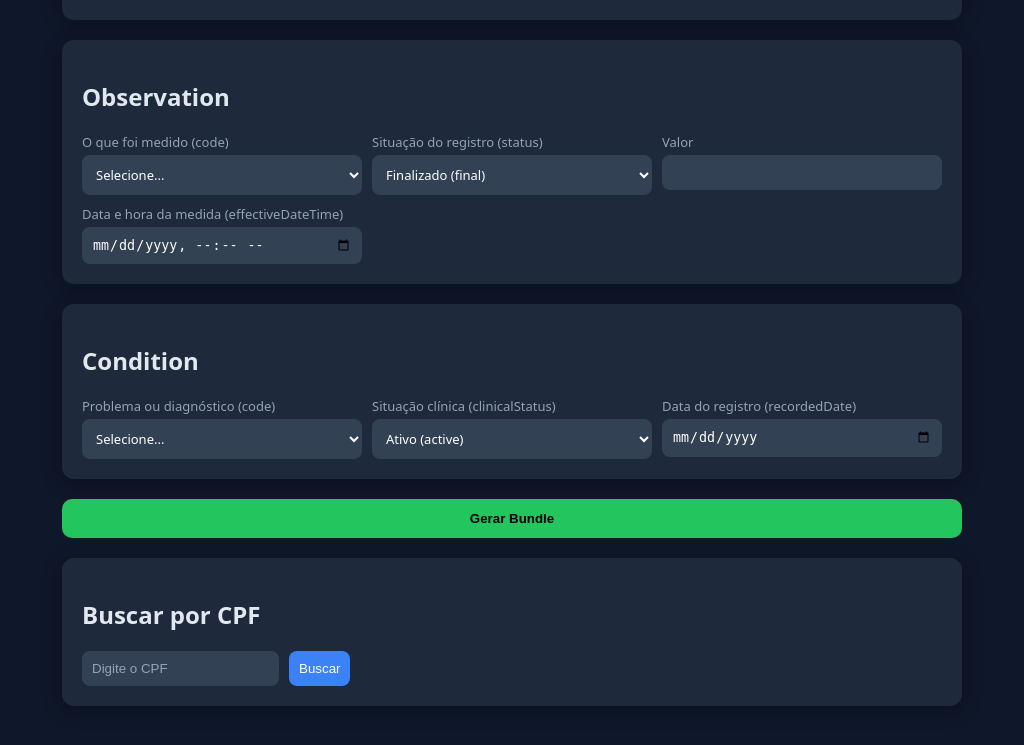
Test case: servidor fora do ar mostra uma mensagem clara
(page scrolled)
Click the button "Gerar Bundle" at (512, 519), box [62,499,962,538]
(page scrolled)
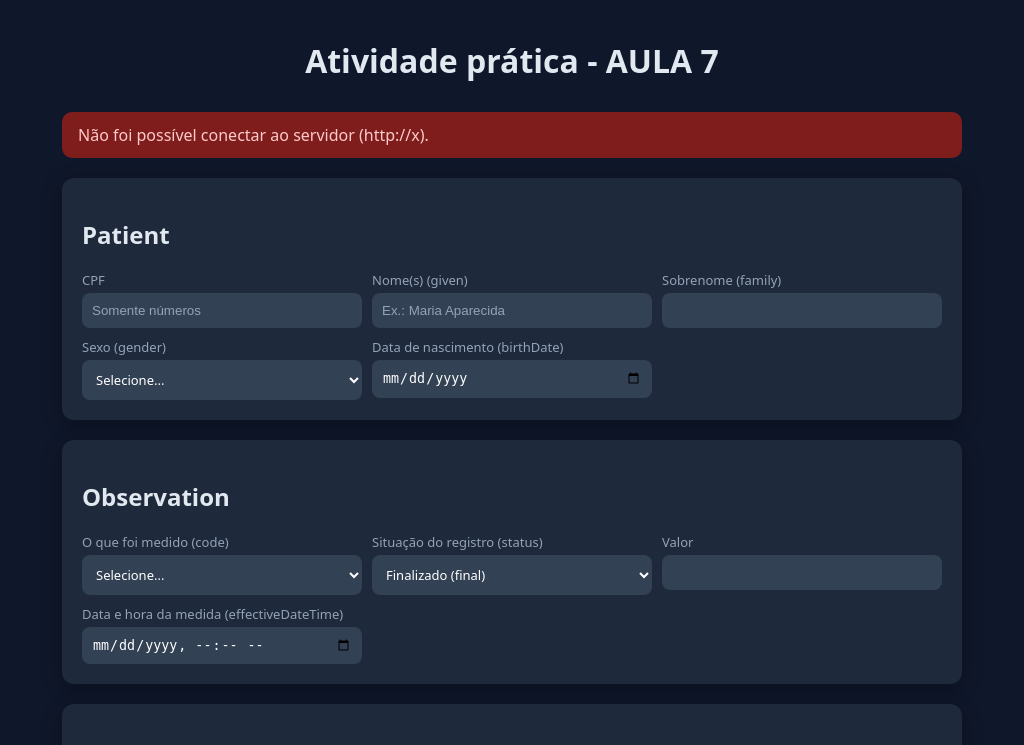
Now the message shows "Não foi possível conectar", box [78,124,429,146]
